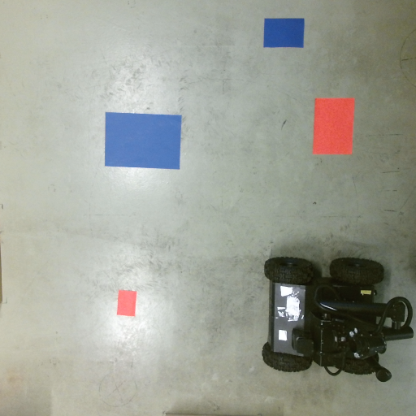Blue: (102, 111, 183, 172), (261, 17, 306, 50)
Jaguar: (260, 255, 416, 385)
Red: (311, 95, 356, 158), (115, 290, 137, 318)
